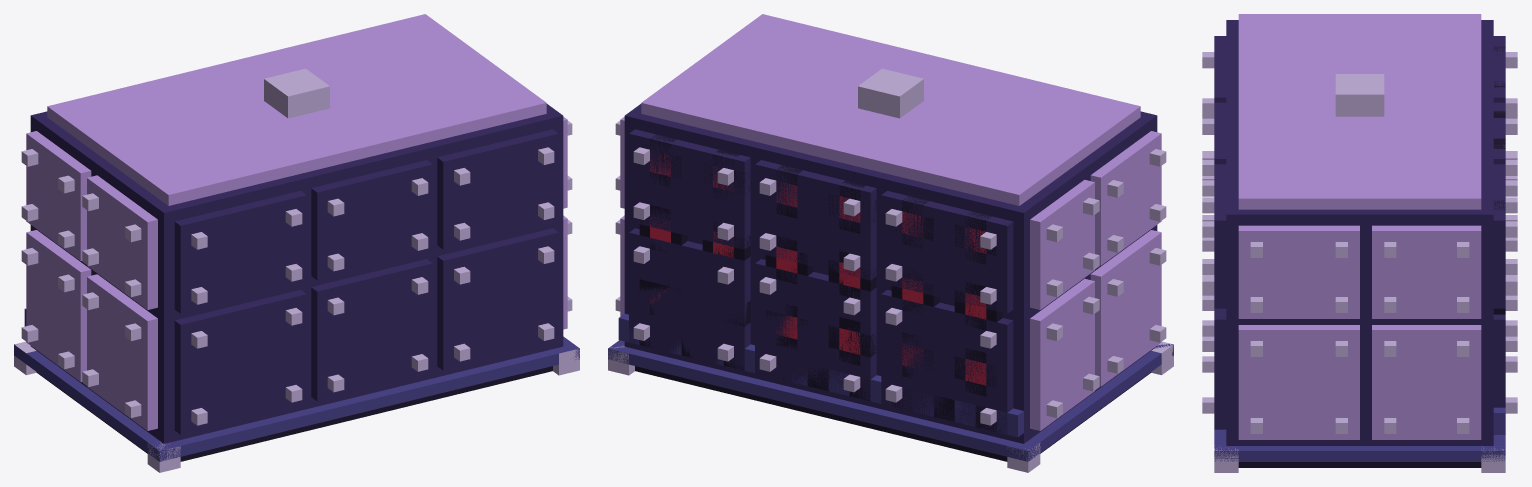
File: magazine.missile.lg.glb
3 views of the same model, side by side, from view 1: azimuth 30°, elevation 25°; view 2: azimuth 150°, elevation 25°; view 3: azimuth 270°, elevation 25° (orthographic).
Parts seen in each view (by area): view 1: magazine.missile.lg; view 2: magazine.missile.lg; view 3: magazine.missile.lg.
Boxes of the visible parts, <box> form: magazine.missile.lg: <box>14,14,579,472</box>; magazine.missile.lg: <box>608,14,1173,472</box>; magazine.missile.lg: <box>1202,14,1517,472</box>.
Bounding box in the file's own units: 2.62 × 1.62 × 1.62.
